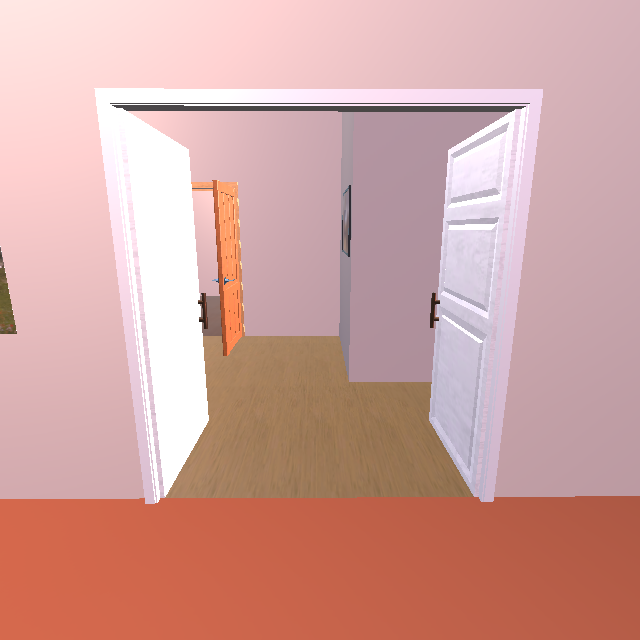open_doorway: (94, 88, 542, 503)
